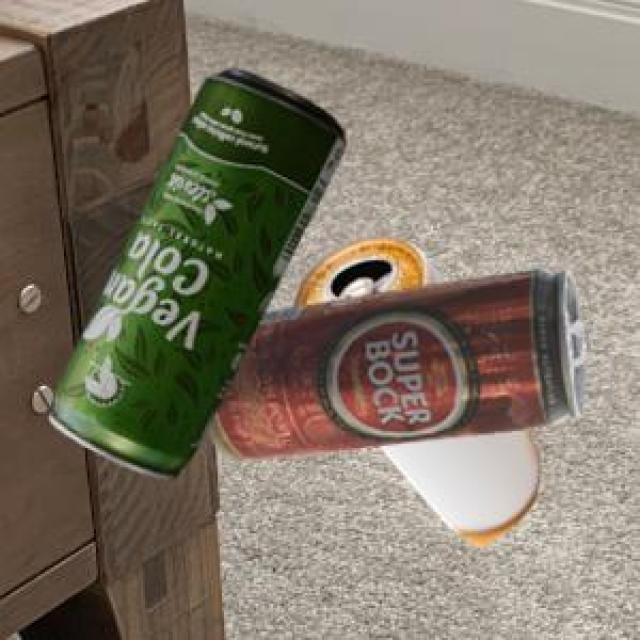logam: (46, 67, 342, 477), (289, 234, 537, 545), (202, 266, 586, 458)
